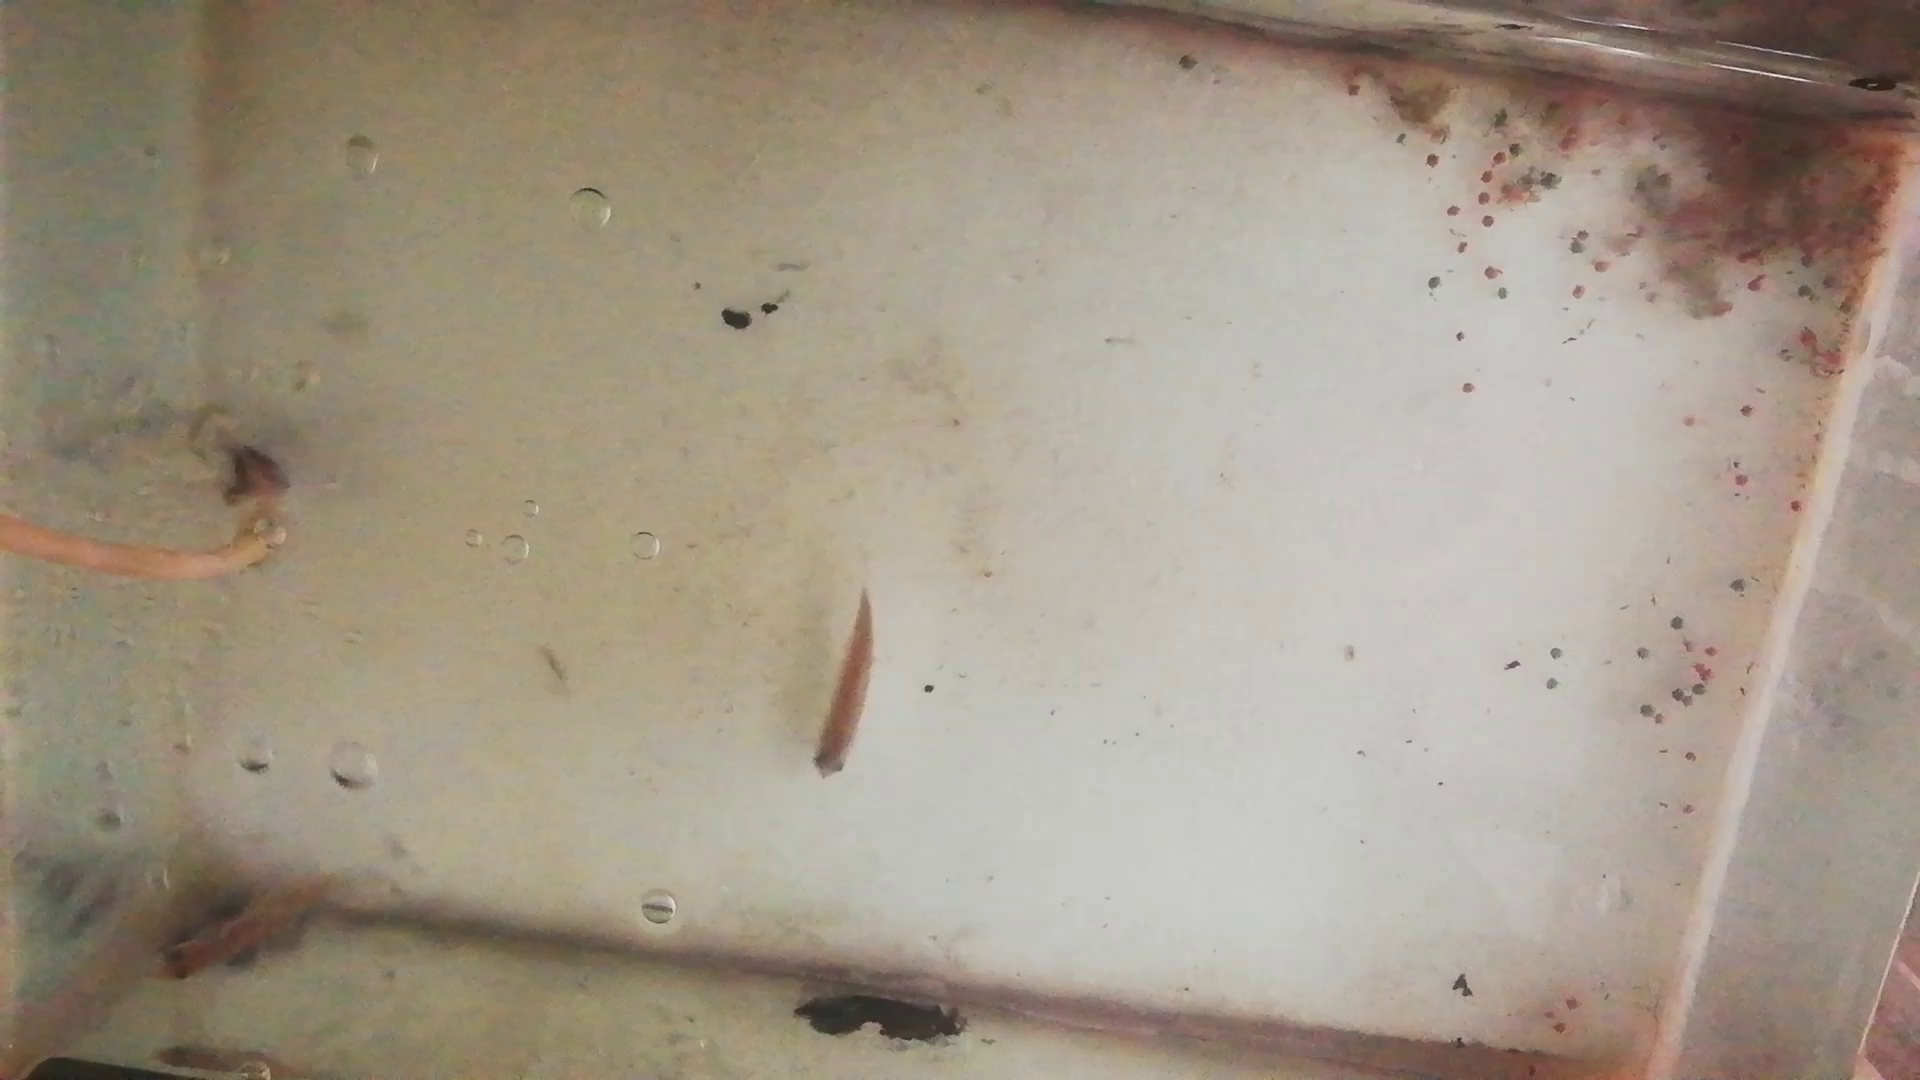fish: (146, 882, 334, 978), (814, 593, 874, 781)
